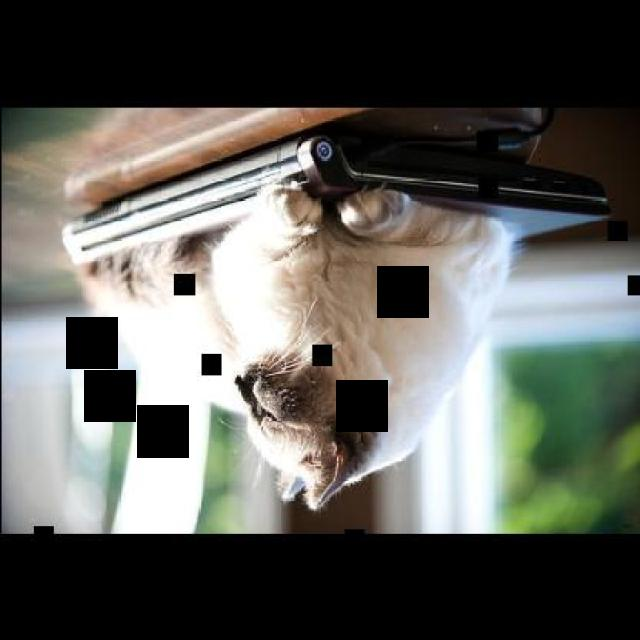unauthorized: (77, 177, 521, 512)
